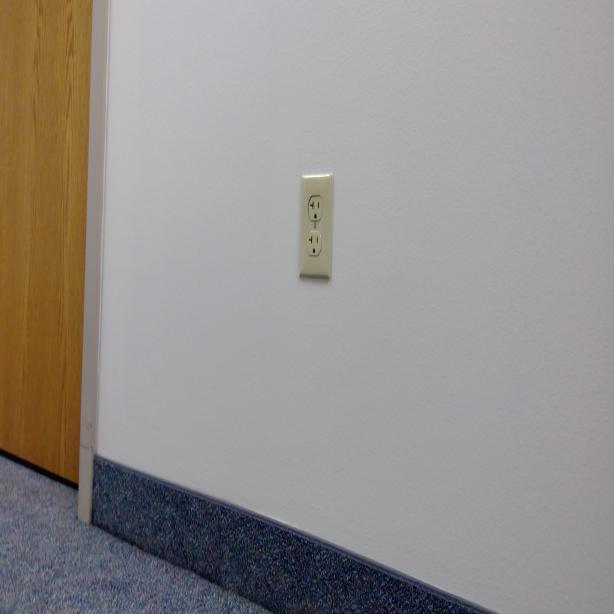typeb: (306, 195, 323, 220), (307, 230, 323, 255)
